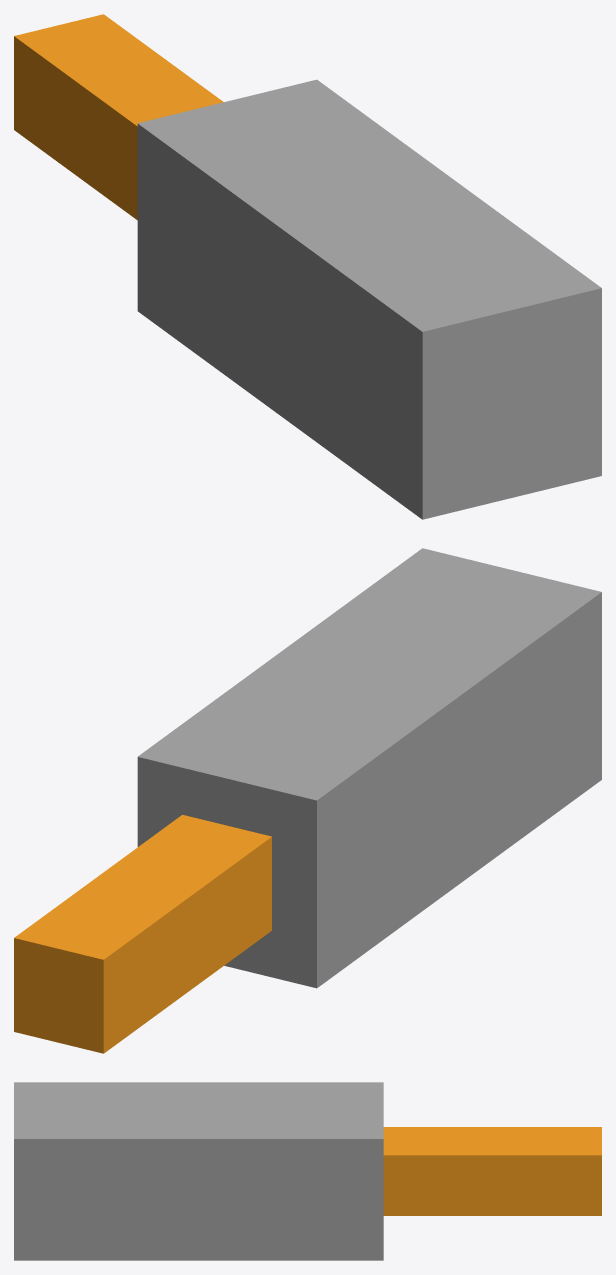
The model's file is Bullet.obj.
3 renders of one model, top to bottom at view 1: azimuth 30°, elevation 25°; view 2: azimuth 150°, elevation 25°; view 3: azimuth 270°, elevation 25°, orthographic. The views are drawn at different scales.
Visible parts, largest first — view 1: cube; view 2: cube; view 3: cube.
Boxes of the visible parts, x1=… form: cube: x1=14, y1=14, x2=601, y2=519; cube: x1=14, y1=548, x2=601, y2=1053; cube: x1=14, y1=1082, x2=601, y2=1260.
Bounding box in the file's own units: 0.0625 × 0.0625 × 0.2734.
Materials: 1 (1 with a texture image).
